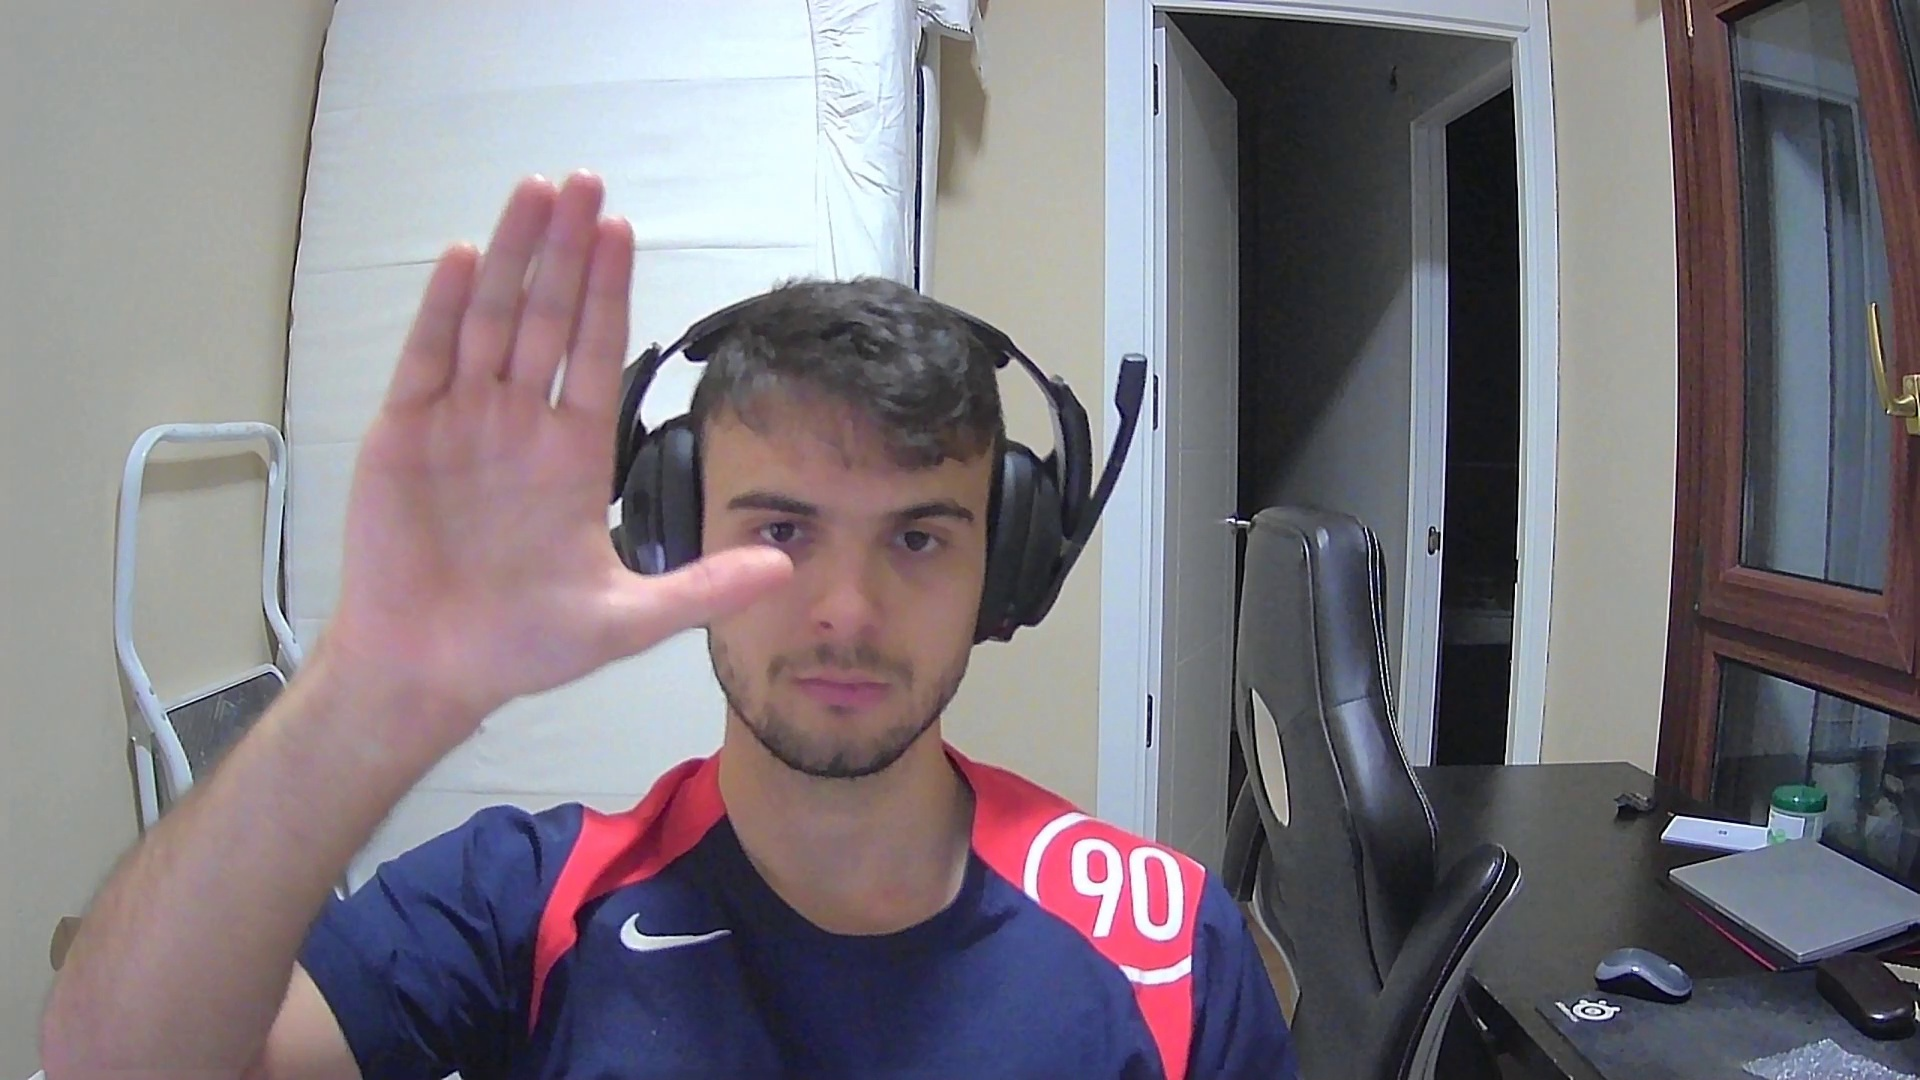Palm: (309, 160, 796, 680)
